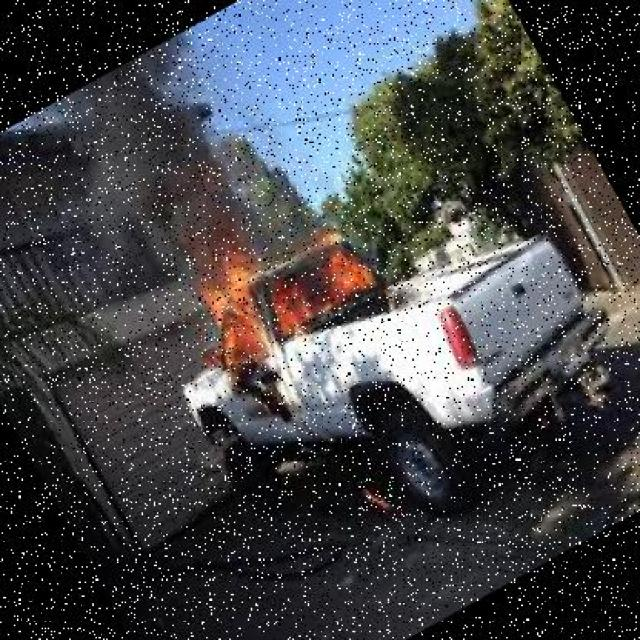fire: (154, 177, 406, 406)
